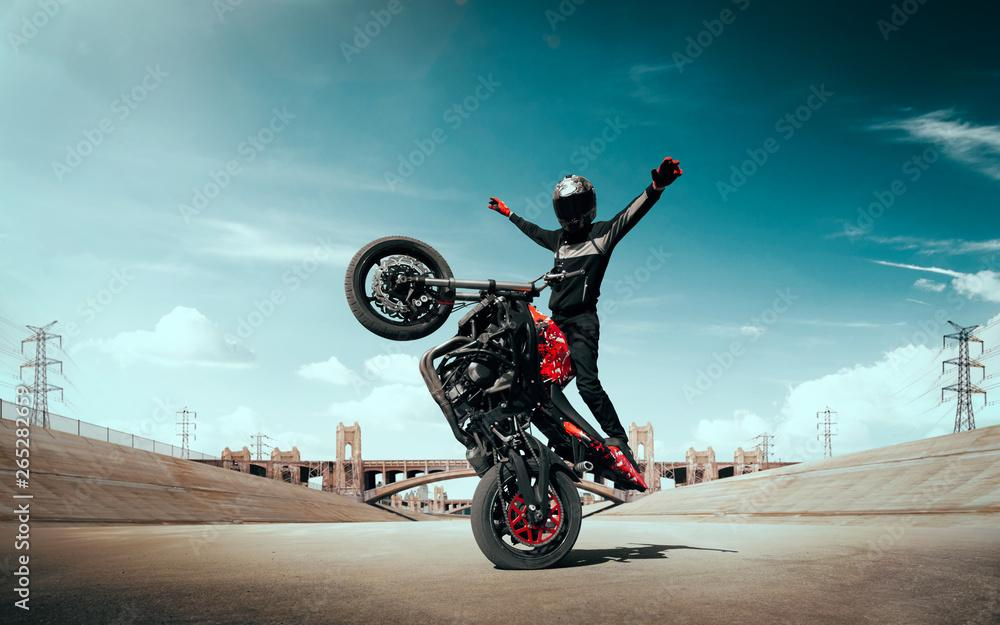helmet: (552, 174, 597, 233)
